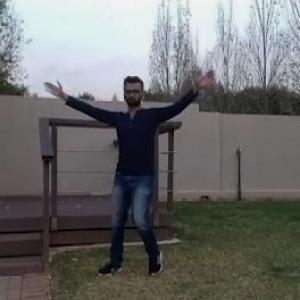takeoff: (43, 70, 215, 278)
